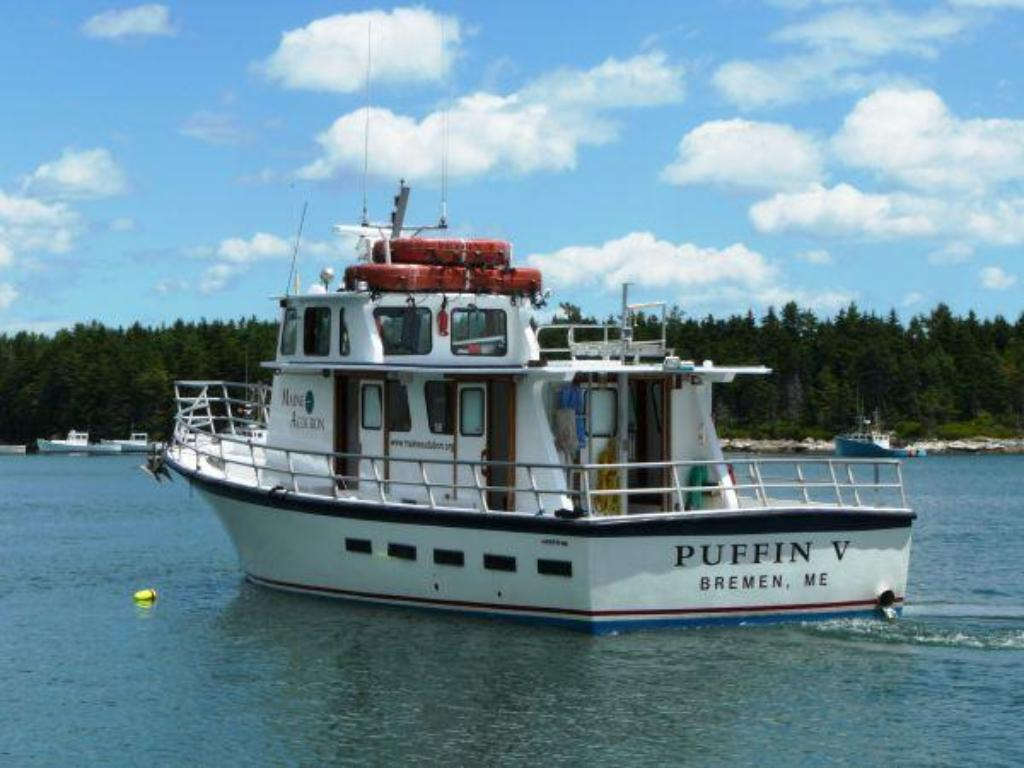PassengerShip: (144, 190, 928, 624)
